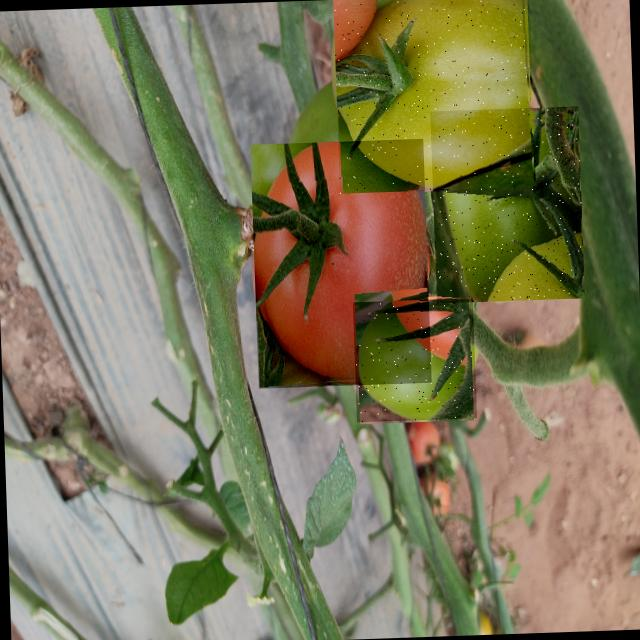Ripe Tomato: (250, 138, 431, 388), (332, 0, 535, 193), (430, 106, 584, 303), (352, 298, 477, 422)
